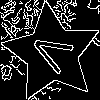V: (27, 28, 83, 80)
